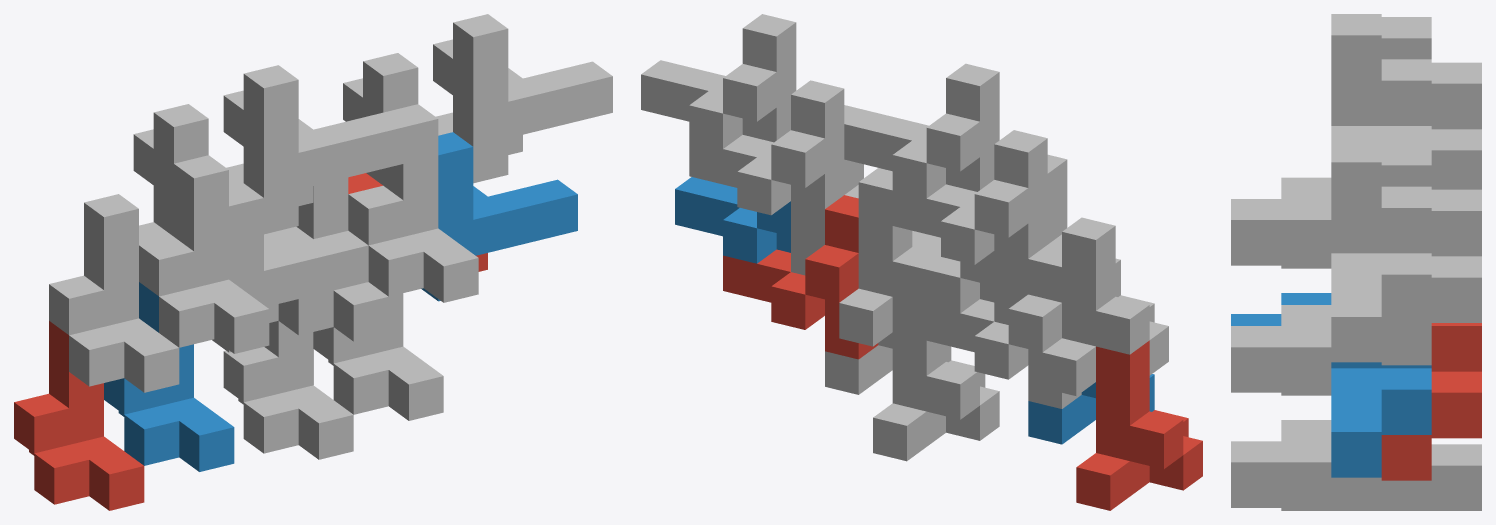
The model's file is tiling.obj.
3 renders of one model, left to right at view 1: azimuth 30°, elevation 25°; view 2: azimuth 150°, elevation 25°; view 3: azimuth 270°, elevation 25°, orthographic. The views are drawn at different scales.
Parts seen in each view (by area): view 1: copy_2_domain_4, copy_2_domain_8, copy_1_domain_3, copy_1_domain_4, copy_1_domain_8, copy_1_domain_1, copy_1_domain_5, copy_2_domain_6, copy_2_domain_2, copy_1_domain_2, copy_1_domain_6, copy_1_domain_7 (+3 smaller); view 2: copy_2_domain_3, copy_2_domain_7, copy_2_domain_8, copy_2_domain_4, copy_1_domain_1, copy_1_domain_3, copy_1_domain_5, copy_2_domain_1, copy_2_domain_5, copy_1_domain_7, copy_2_domain_6, copy_2_domain_2 (+4 smaller); view 3: copy_2_domain_8, copy_2_domain_7, copy_2_domain_4, copy_1_domain_6, copy_2_domain_6, copy_2_domain_3, copy_2_domain_5, copy_1_domain_4, copy_1_domain_8, copy_1_domain_5, copy_1_domain_2.
Part boxes in pixels (x1,y1,x2,y2): copy_2_domain_4: (223,65,403,234); copy_2_domain_8: (433,14,612,183); copy_1_domain_3: (49,194,179,392); copy_1_domain_4: (139,155,269,353); copy_1_domain_8: (348,104,478,302); copy_1_domain_1: (14,321,144,510); copy_1_domain_5: (223,321,353,459); copy_2_domain_6: (421,132,577,301); copy_2_domain_2: (212,183,368,352); copy_1_domain_2: (104,282,234,471); copy_1_domain_6: (313,293,443,420); copy_1_domain_7: (264,177,388,341); copy_2_domain_3: (892,130,1047,294); copy_2_domain_7: (689,80,844,244); copy_2_domain_8: (641,14,796,148); copy_2_domain_4: (844,63,999,198); copy_1_domain_1: (1076,340,1202,510); copy_1_domain_3: (1042,217,1168,396); copy_1_domain_5: (873,297,999,461); copy_2_domain_1: (926,245,1081,408); copy_2_domain_5: (723,195,878,359); copy_1_domain_7: (839,168,942,346); copy_2_domain_6: (675,177,790,263); copy_2_domain_2: (912,231,994,313); copy_2_domain_8: (1331,141,1431,362); copy_2_domain_7: (1381,144,1481,365); copy_2_domain_4: (1331,14,1431,144); copy_1_domain_6: (1231,420,1431,507); copy_2_domain_6: (1331,362,1431,477); copy_2_domain_3: (1381,17,1481,189); copy_2_domain_5: (1381,323,1481,480); copy_1_domain_4: (1231,177,1331,265); copy_1_domain_8: (1231,305,1331,392); copy_1_domain_5: (1281,444,1481,510); copy_1_domain_2: (1231,293,1331,325).
Bounding box in the file's own units: 16 × 10 × 5.
